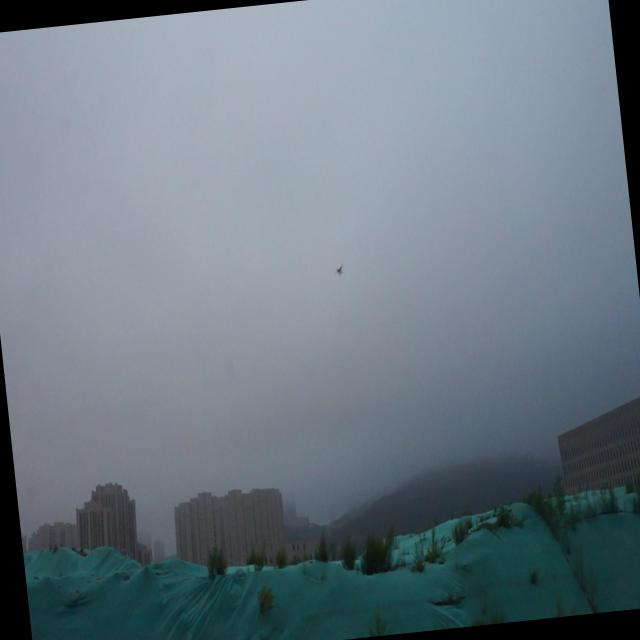drone: (330, 260, 347, 283)
